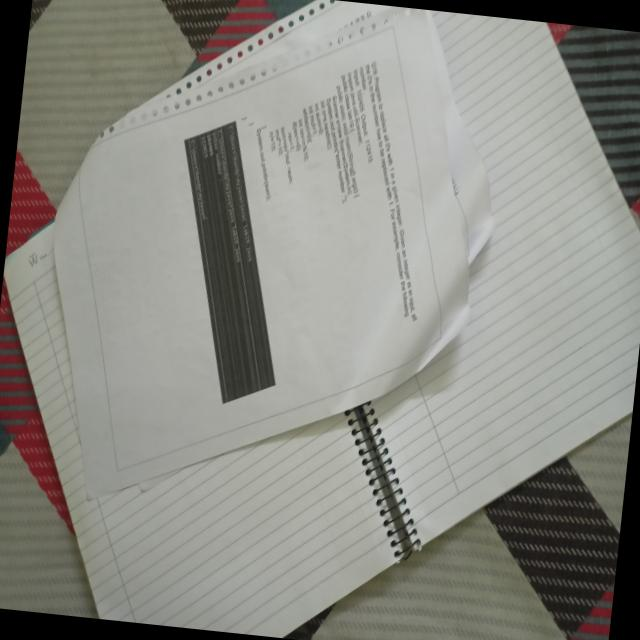notebook: (14, 0, 534, 504)
